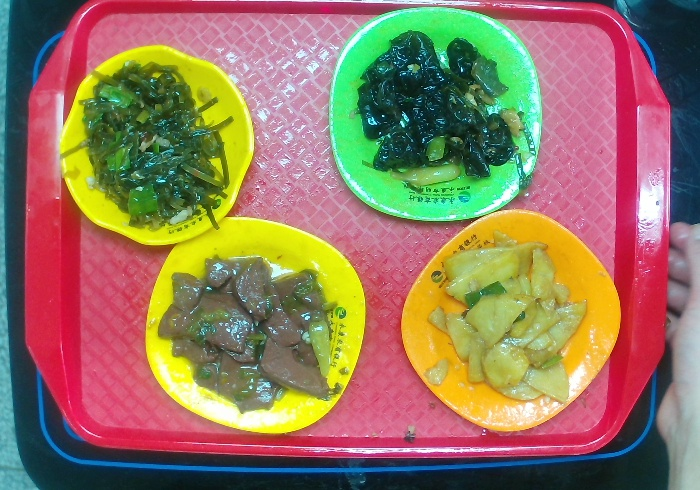YKMZ-Huang_Se_Ao_Bian_Wan: (56, 37, 254, 245)
YKMZ-Huang_Se_Fang_Die: (144, 216, 368, 435)
YKMZ-Ju_Se_Fang_Die: (396, 207, 625, 438)
YKMZ-Lv_Se_Fang_Die: (323, 6, 553, 221)
